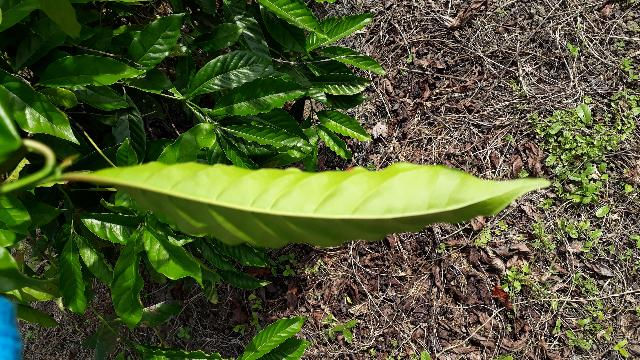healthy: (85, 160, 551, 248)
